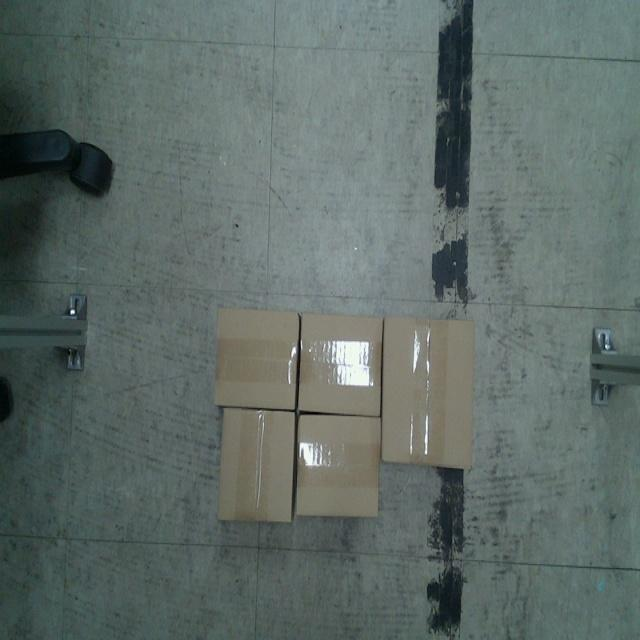box: (384, 316, 476, 473), (212, 306, 300, 410), (297, 412, 381, 518), (219, 409, 296, 523), (301, 314, 384, 416)
